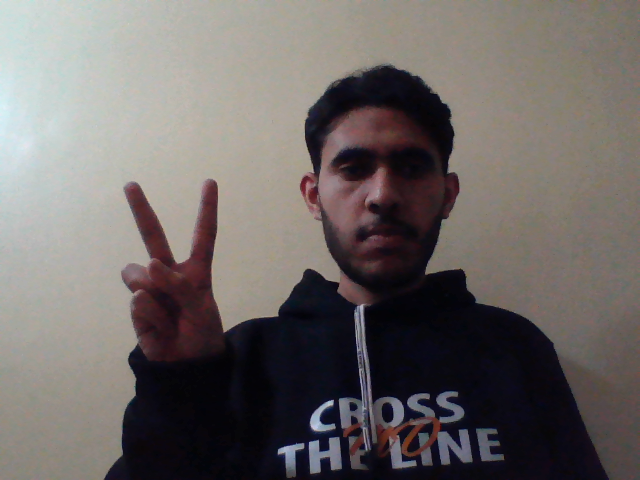V: (115, 172, 230, 381)
